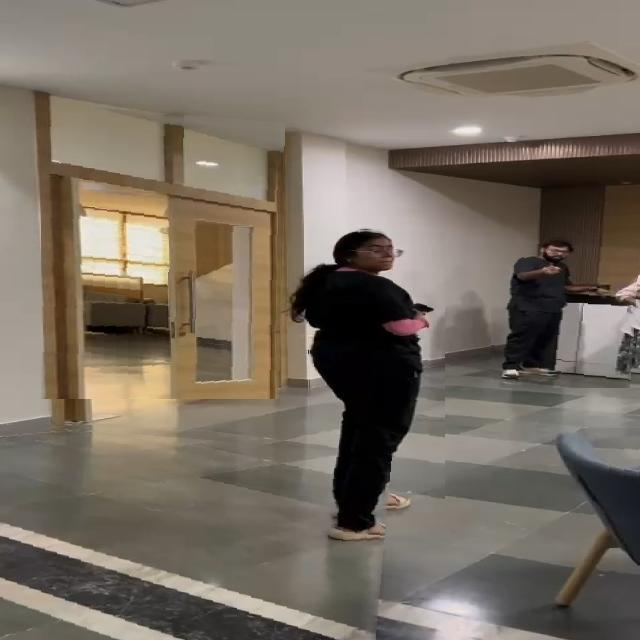door: (41, 103, 285, 399)
floor: (0, 423, 392, 640)
furniture: (571, 428, 640, 616)
moving_object: (307, 228, 445, 534), (491, 234, 640, 388)
